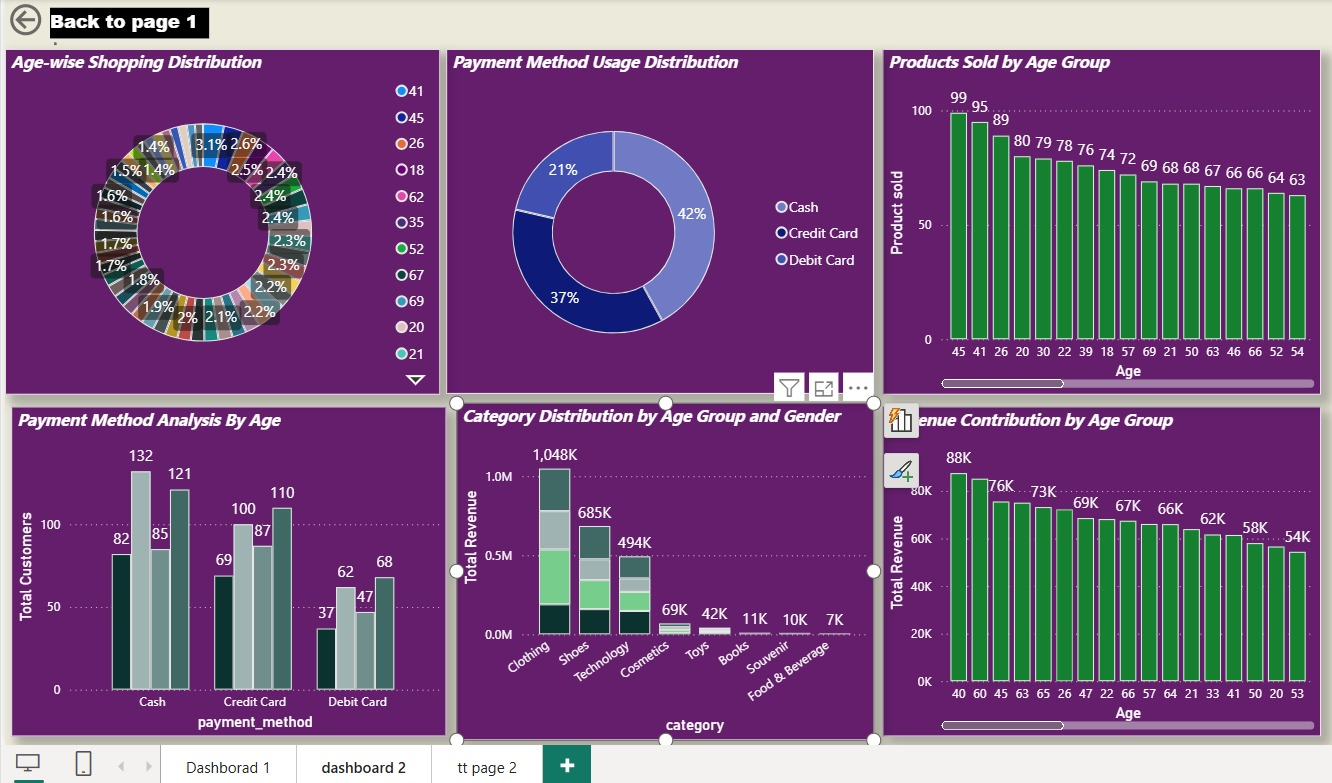

The page's visual inventory and layout, read from the dashboard file:
{"tool":"powerbi","page":{"name":"dashboard 2","canvas":[1280,720],"ordinal":1},"visuals":[{"type":"donutChart","title":"Age-wise Shopping Distribution","fields":{"Y":["PROJECT 1.Total Customers","select"],"Category":["PROJECT 1.age"]},"box":[0,48.3,420,333.3],"z":0},{"type":"clusteredColumnChart","title":"Payment Method Analysis By Age","fields":{"Category":["PROJECT 1.payment_method"],"Series":["PROJECT 1.Age Group"],"Y":["PROJECT 1.Total Customers"]},"box":[0,393.3,420,318.3],"z":1000},{"type":"actionButton","box":[0,0,43.8,40],"z":2000},{"type":"columnChart","title":"Category Distribution by Age Group and Gender","fields":{"Category":["PROJECT 1.category"],"Series":["PROJECT 1.Age Group"],"Y":["PROJECT 1.Total Revenue"]},"box":[0,394.5,403,325.7],"z":3000},{"type":"clusteredColumnChart","title":"Revenue Contribution by Age Group","fields":{"Category":["PROJECT 1.age"],"Y":["PROJECT 1.Total Revenue"]},"box":[846.7,393.3,423.3,318.3],"z":4000},{"type":"clusteredColumnChart","title":"Products Sold by Age Group","fields":{"Category":["PROJECT 1.age"],"Y":["PROJECT 1.Product sold"]},"box":[846.7,48.3,423.3,333.3],"z":5000},{"type":"actionButton","title":"Back to page 1","box":[43.8,8.8,153.8,40],"z":6000},{"type":"donutChart","title":"Payment Method Usage Distribution","fields":{"Y":["PROJECT 1.Total Customers"],"Category":["PROJECT 1.payment_method"]},"box":[425.7,48.6,412.9,332.9],"z":7000}]}

Visuals, with their boxes in screenshot pixels (x1, y1, x2, y2):
"Age-wise Shopping Distribution" donutChart: x1=10 y1=50 x2=441 y2=392
"Payment Method Analysis By Age" clusteredColumnChart: x1=10 y1=404 x2=441 y2=730
actionButton: x1=10 y1=0 x2=55 y2=41
"Category Distribution by Age Group and Gender" columnChart: x1=10 y1=405 x2=424 y2=739
"Revenue Contribution by Age Group" clusteredColumnChart: x1=879 y1=404 x2=1314 y2=730
"Products Sold by Age Group" clusteredColumnChart: x1=879 y1=50 x2=1314 y2=392
"Back to page 1" actionButton: x1=55 y1=9 x2=213 y2=50
"Payment Method Usage Distribution" donutChart: x1=447 y1=50 x2=871 y2=392
